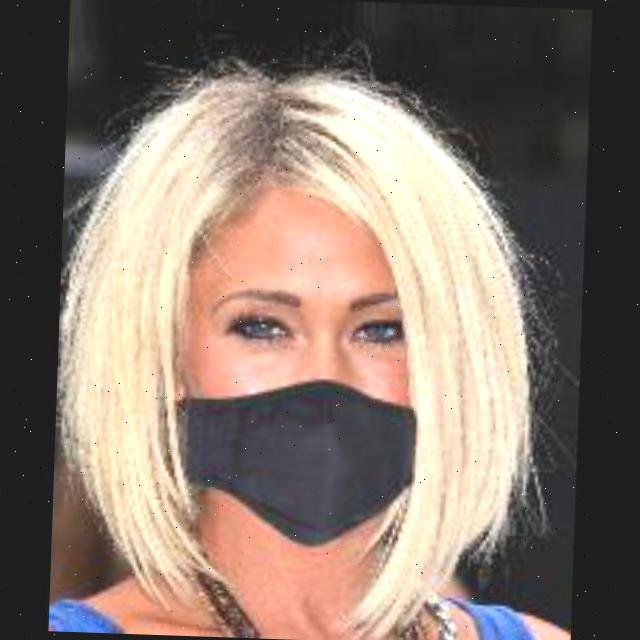suspicion: (121, 134, 492, 586)
